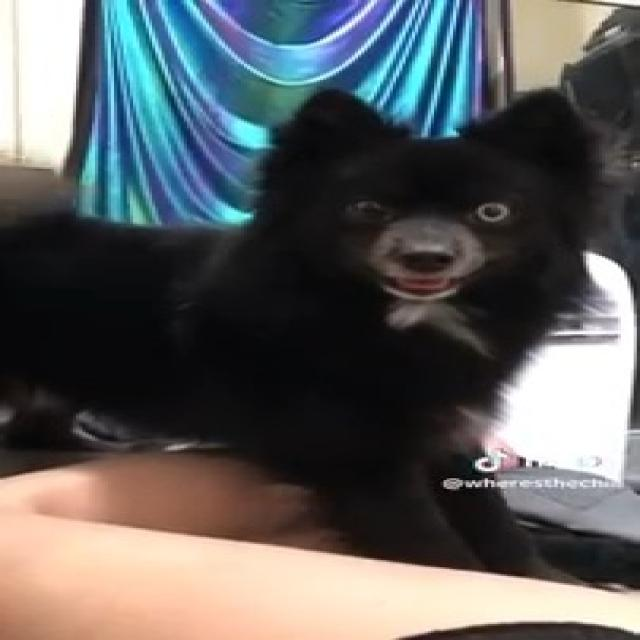dogs: (0, 76, 640, 572)
